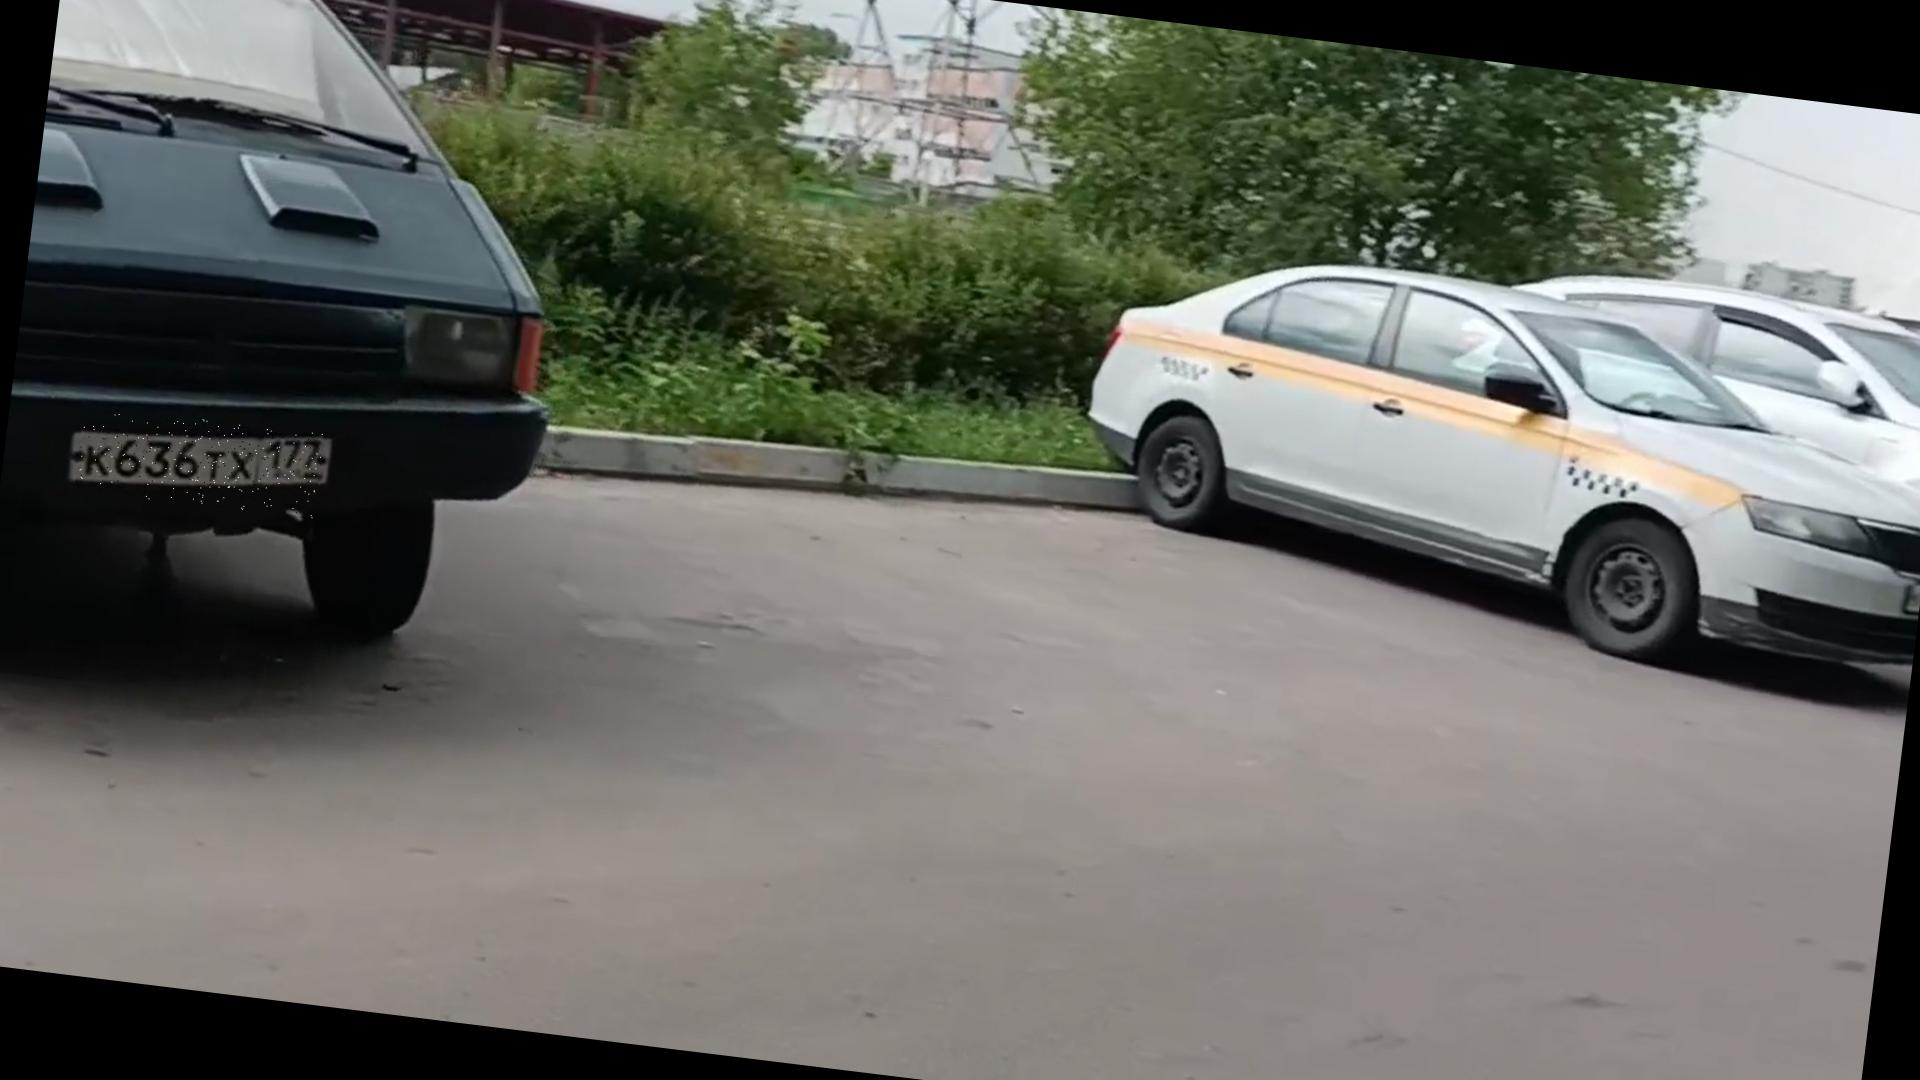plate: (76, 406, 326, 521)
